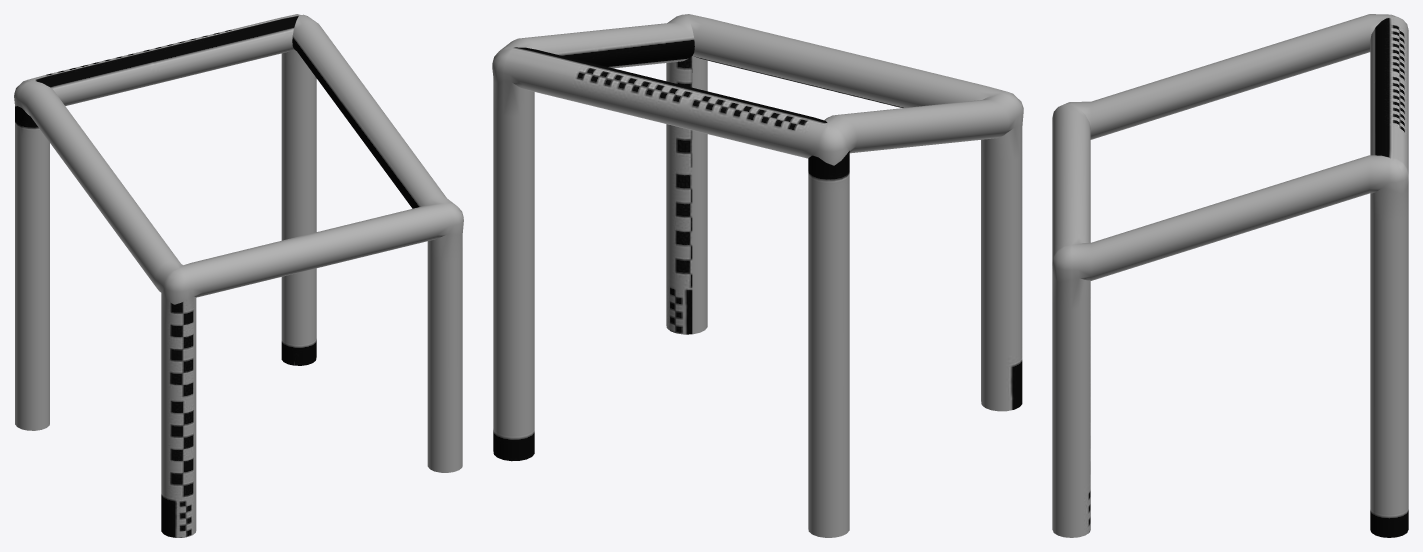
Rendered from ggfdive.glb.
3 views of the same model, side by side, from view 1: azimuth 30°, elevation 25°; view 2: azimuth 150°, elevation 25°; view 3: azimuth 270°, elevation 25° (orthographic). The views are drawn at different scales.
Parts seen in each view (by area): view 1: GGFDive; view 2: GGFDive; view 3: GGFDive.
Boxes of the visible parts, box(x1,y1,x2,y2) form: GGFDive: box(14, 14, 463, 537); GGFDive: box(492, 14, 1023, 537); GGFDive: box(1052, 14, 1408, 537).
Size of the model in its own units: 3.17 by 3.5 by 3.03.
1 material, 1 textured.
